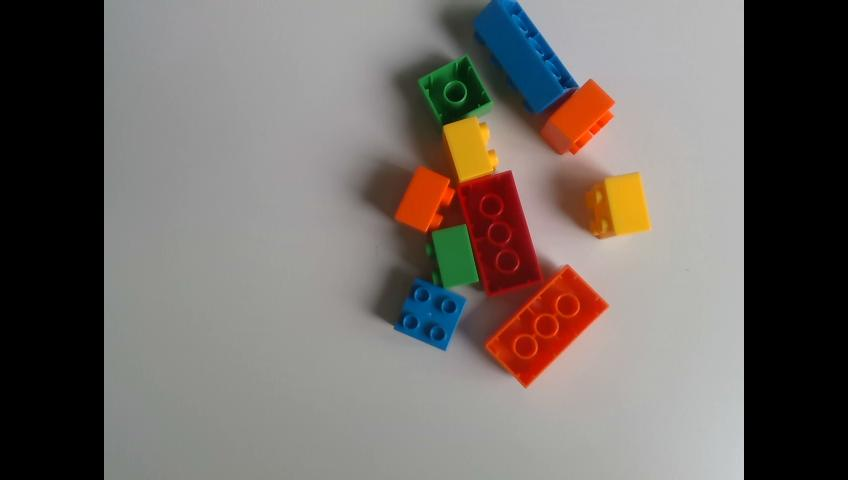2x2_blue: (392, 279, 469, 354)
2x2_green: (417, 52, 493, 134), (425, 224, 480, 289)
2x2_orange: (536, 78, 616, 155), (393, 166, 456, 234)
2x2_yellow: (586, 172, 650, 242), (440, 115, 500, 185)
4x2_blue: (469, 0, 581, 115)
4x2_orange: (482, 264, 611, 388)
4x2_red: (455, 168, 544, 299)
